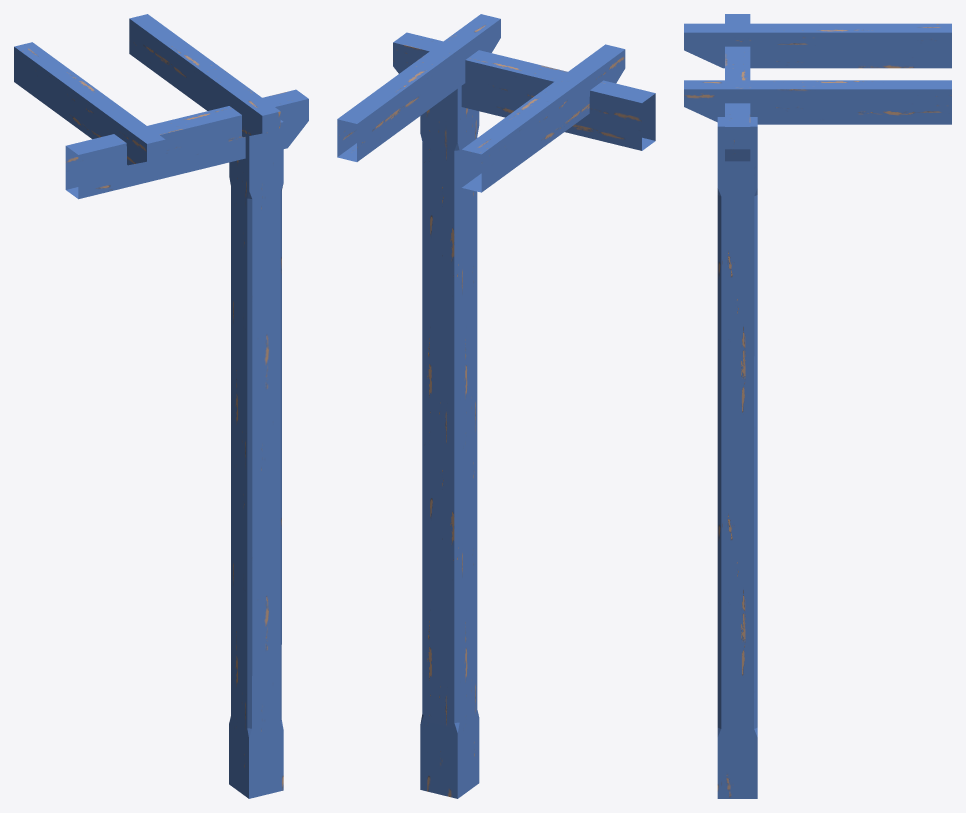
File: PergolaCornerRight.fbx
3 renders of one model, left to right at view 1: azimuth 30°, elevation 25°; view 2: azimuth 150°, elevation 25°; view 3: azimuth 270°, elevation 25°, orthographic. The views are drawn at different scales.
Parts seen in each view (by area): view 1: PergolaCornerRight; view 2: PergolaCornerRight; view 3: PergolaCornerRight.
Boxes of the visible parts, x1,y1,x2,y2 form: PergolaCornerRight: [14, 14, 308, 798]; PergolaCornerRight: [337, 14, 655, 798]; PergolaCornerRight: [684, 14, 951, 798].
Bounding box in the file's own units: 99.99 × 289 × 100.
Materials: 1 (1 with a texture image).
